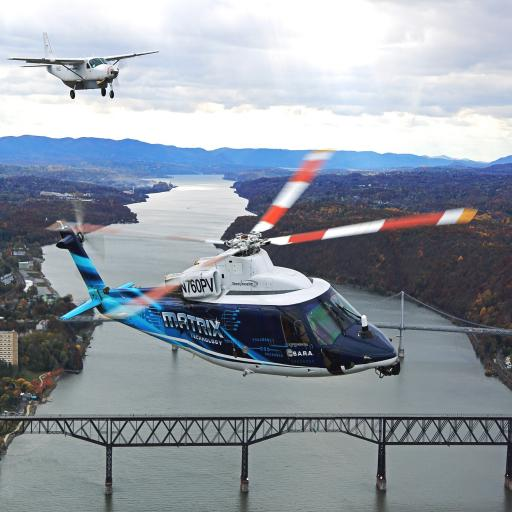helicopter: (57, 153, 478, 378)
